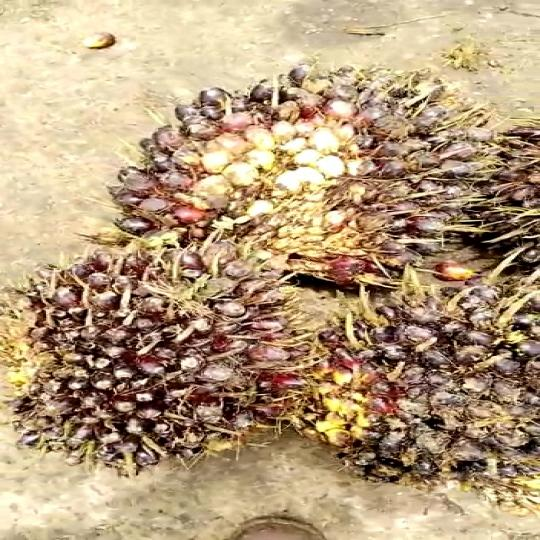mentah: (118, 50, 479, 292), (14, 240, 358, 485), (301, 239, 526, 522)
